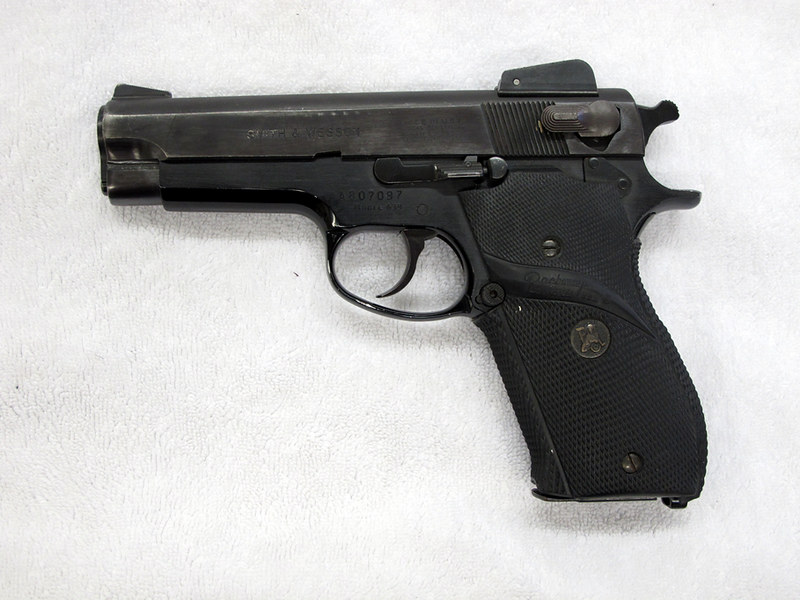gun: (74, 48, 720, 525)
